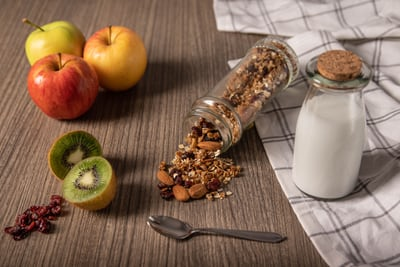apple: (26, 48, 100, 122), (83, 22, 149, 95), (17, 15, 84, 71)
